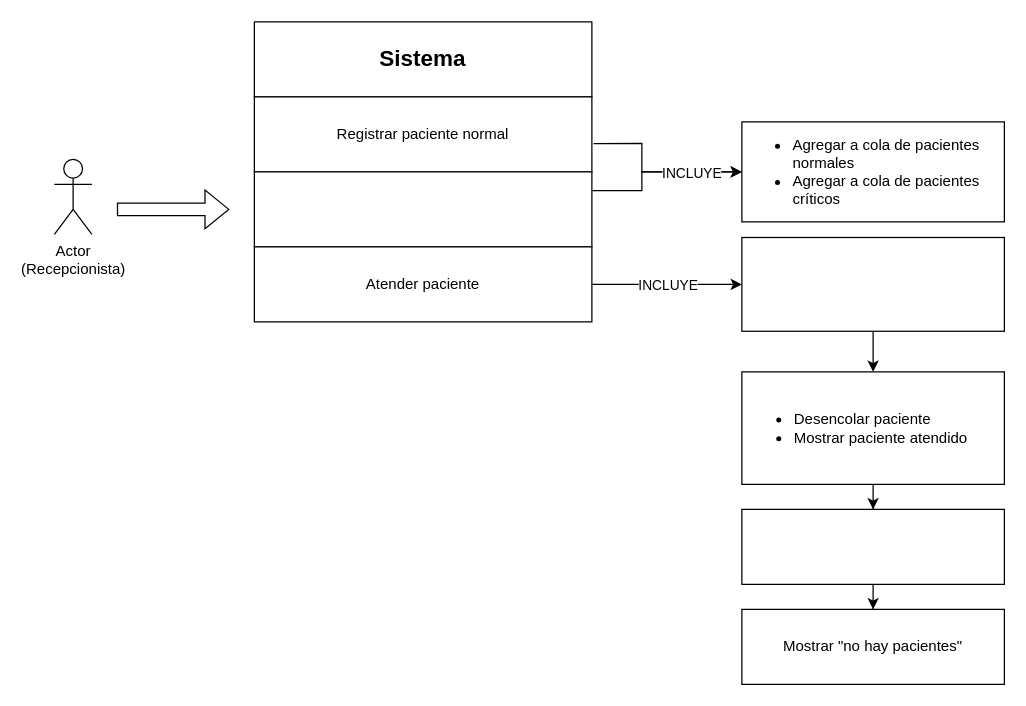
This 1026x706 diagram has some shape labels left out. The shapes that lost their labels are listed below. From the top down, each one's centre as x and y in pixels, then its label:
At [422,209]: "Registrar paciente crítico".
At [872,283]: "Verificar cola de críticos".
At [872,546]: "Verificar cola de normales".
